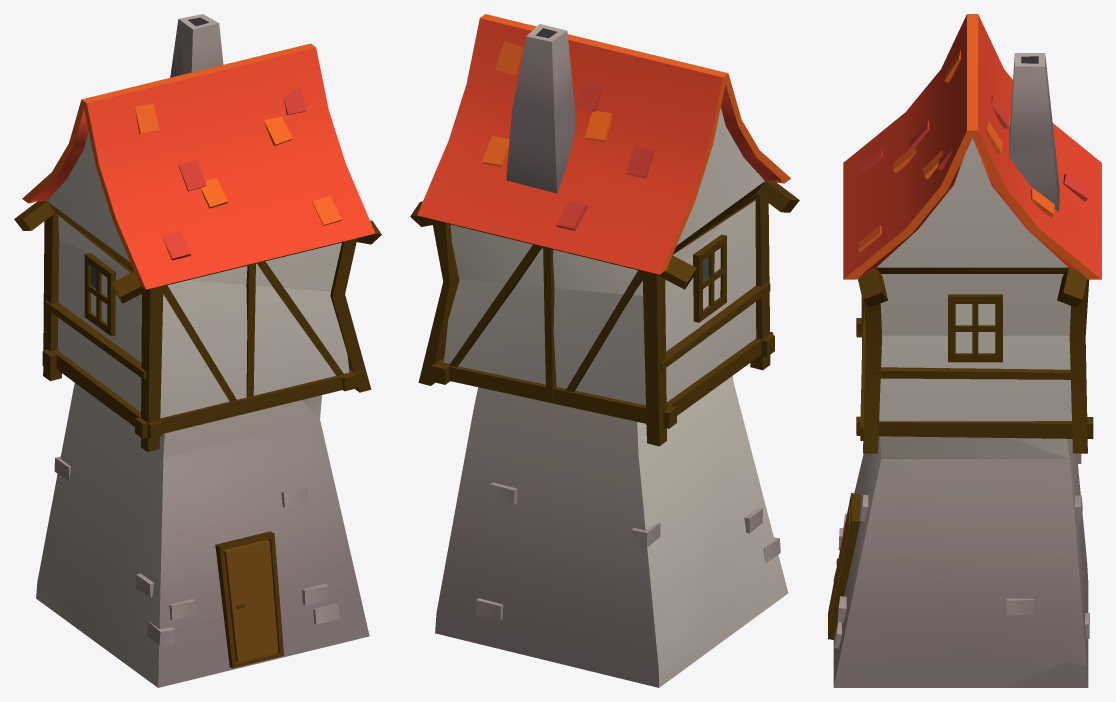
File: House_2.fbx
3 renders of one model, left to right at view 1: azimuth 30°, elevation 25°; view 2: azimuth 150°, elevation 25°; view 3: azimuth 270°, elevation 25°, orthographic. The views are drawn at different scales.
Parts seen in each view (by area): view 1: House_2; view 2: House_2; view 3: House_2.
Part boxes in pixels (x1=…): House_2: x1=14, y1=14, x2=381, y2=687; House_2: x1=410, y1=14, x2=799, y2=687; House_2: x1=828, y1=14, x2=1101, y2=687.
Size of the model in its own units: 1.44 by 2.96 by 1.25.
